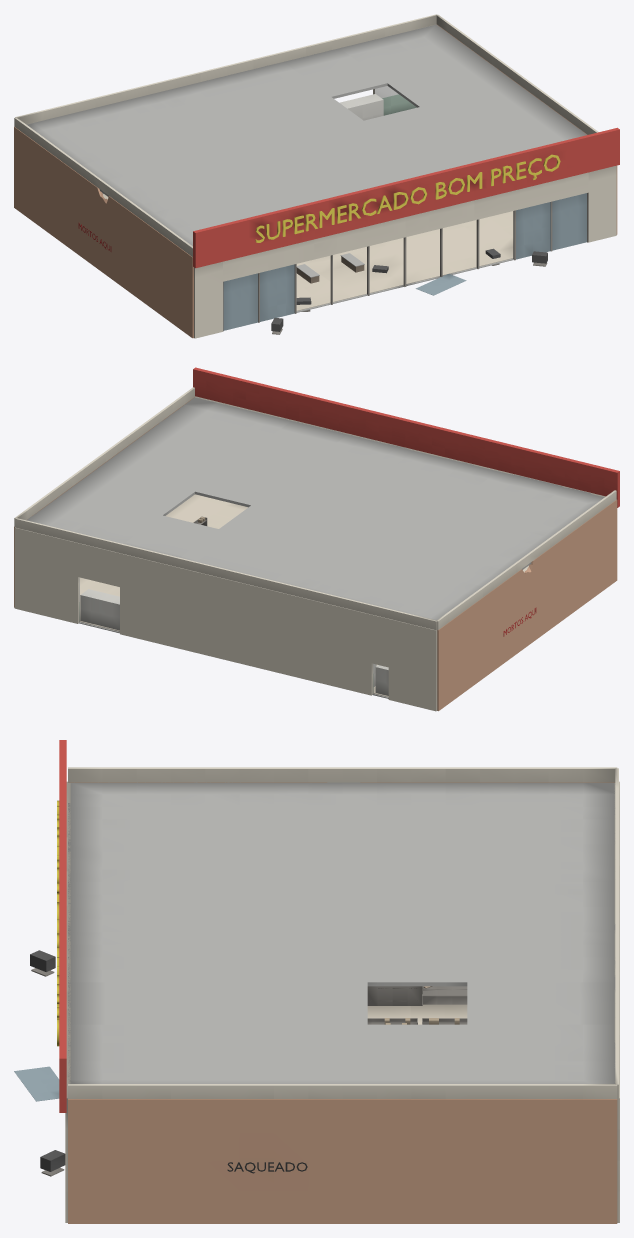
File: mercado.glb
3 renders of one model, top to bottom at view 1: azimuth 30°, elevation 25°; view 2: azimuth 150°, elevation 25°; view 3: azimuth 270°, elevation 25°, orthographic. The views are drawn at different scales.
Parts seen in each view (by area): view 1: longe, ext, dentro, detalhe; view 2: longe, ext, dentro; view 3: longe, ext, dentro, detalhe.
Boxes of the visible parts, bbox=[...] form: longe: bbox=[14, 14, 619, 331]; ext: bbox=[14, 24, 617, 338]; dentro: bbox=[102, 86, 547, 334]; detalhe: bbox=[78, 193, 586, 330]; longe: bbox=[14, 367, 619, 630]; ext: bbox=[14, 396, 617, 711]; dentro: bbox=[78, 494, 528, 698]; longe: bbox=[57, 740, 618, 1112]; ext: bbox=[65, 781, 619, 1223]; dentro: bbox=[30, 950, 467, 1176]; detalhe: bbox=[14, 986, 432, 1173].
Size of what is drawn, in the model's own units: 30.25 by 8.19 by 24.27.
